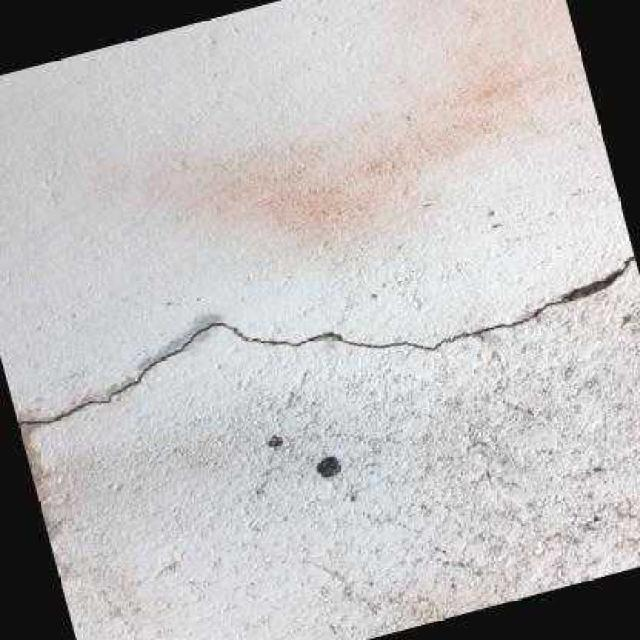D00: (18, 255, 635, 424)
